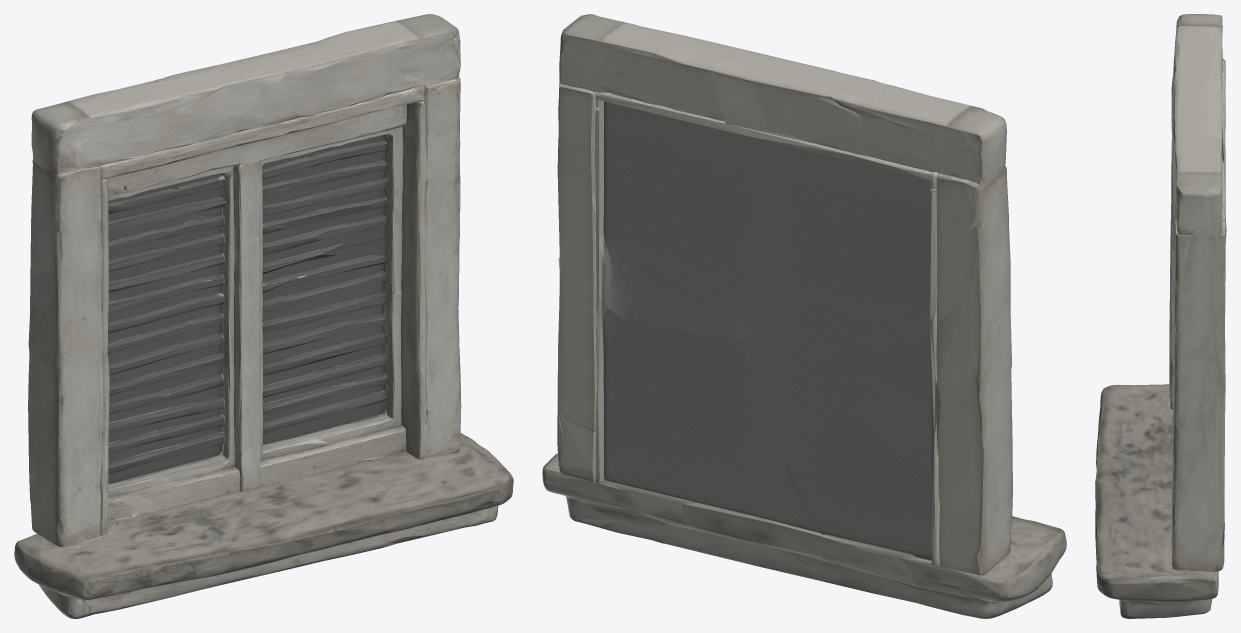
Rendered from finestra.glb.
The picture shows the model from 3 angles, left to right: view 1: azimuth 30°, elevation 25°; view 2: azimuth 150°, elevation 25°; view 3: azimuth 270°, elevation 25°; orthographic projection. The views are drawn at different scales.
Visible parts, largest first — view 1: Mesh_0; view 2: Mesh_0; view 3: Mesh_0.
Part boxes in pixels (<box>): Mesh_0: <box>14,14,513,618</box>; Mesh_0: <box>542,14,1066,618</box>; Mesh_0: <box>1095,14,1226,618</box>.
Size of the model in its own units: 1.9 by 1.89 by 0.5259.
Materials: 1 (1 with a texture image).
